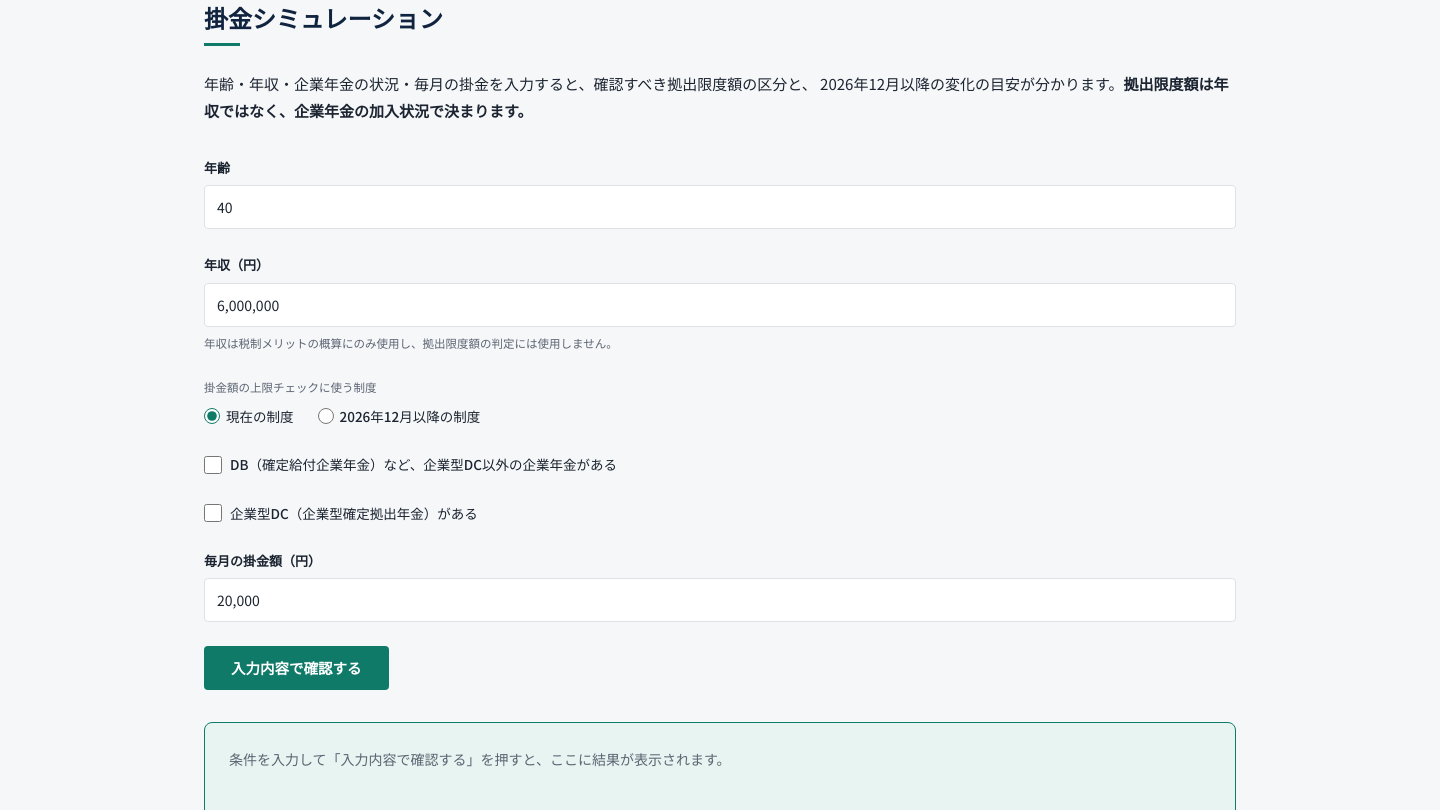
Test: SimulatorSection › デフォルト値のまま送信すると、企業年金なし区分の結果が表示される
The width and height of the screenshot is (1440, 810).
Click the button "入力内容で確認する": (296, 668) [204,646,388,690]
(page scrolled)
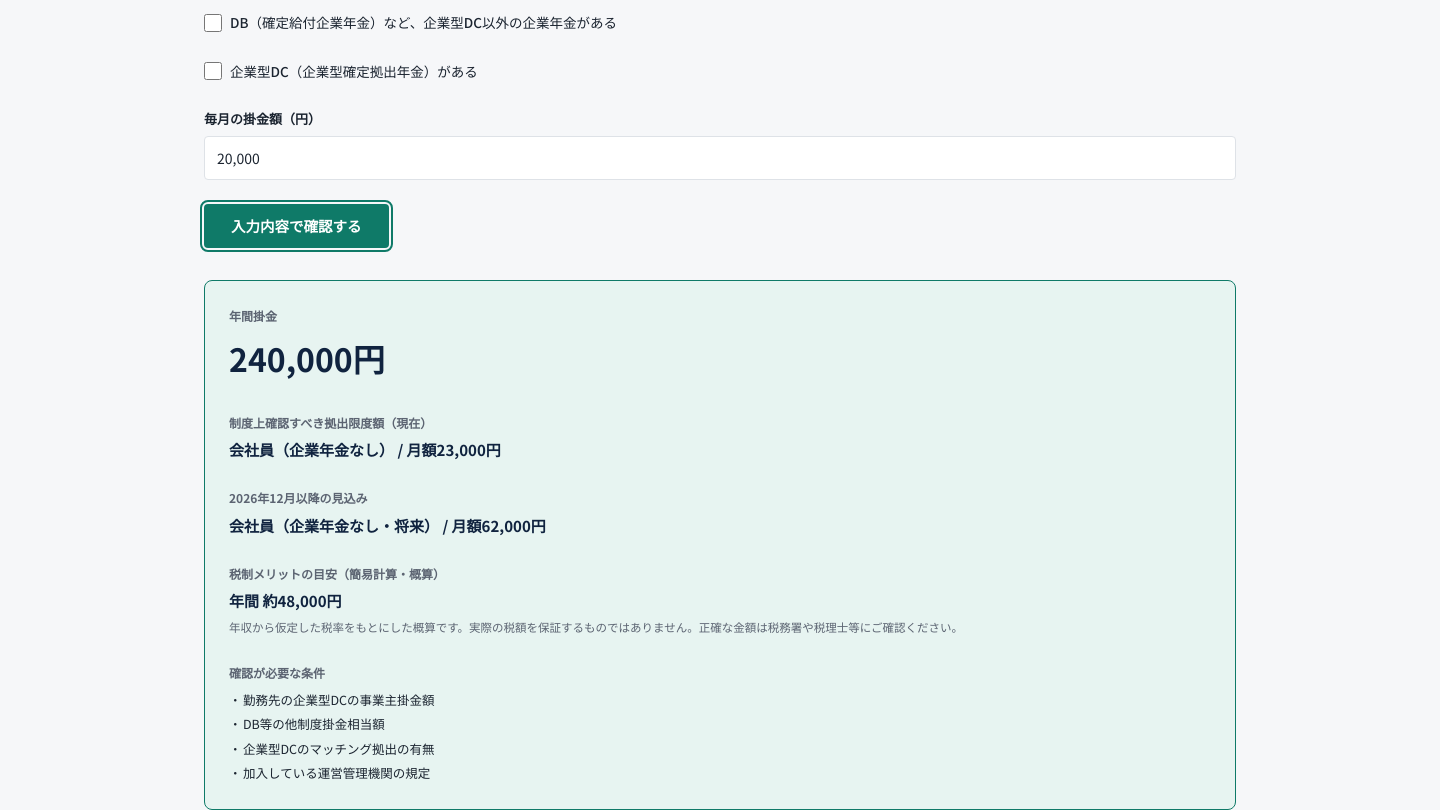
Expected: the text "240,000円" is shown, [229,335,385,381]
Expected: the text "会社員（企業年金なし） / 月額23,000円" is shown, [229,439,501,460]
Expected: the text "会社員（企業年金なし・将来） / 月額62,000円" is shown, [229,515,546,536]
